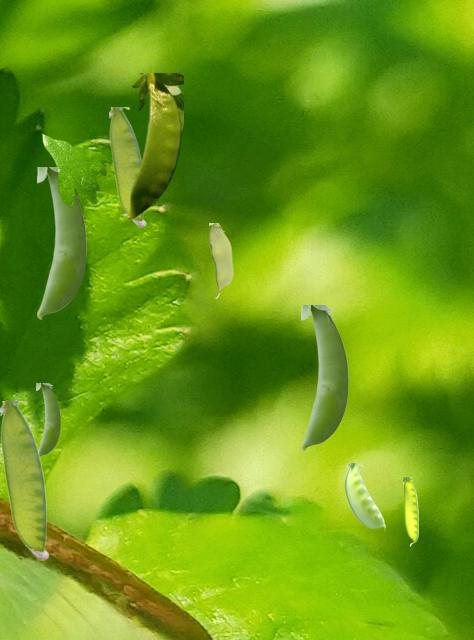pea: (120, 73, 182, 218), (0, 401, 48, 559), (37, 167, 85, 318), (301, 305, 347, 450), (109, 107, 145, 226), (344, 463, 384, 531), (209, 223, 232, 297), (36, 383, 59, 456), (403, 477, 417, 545)
